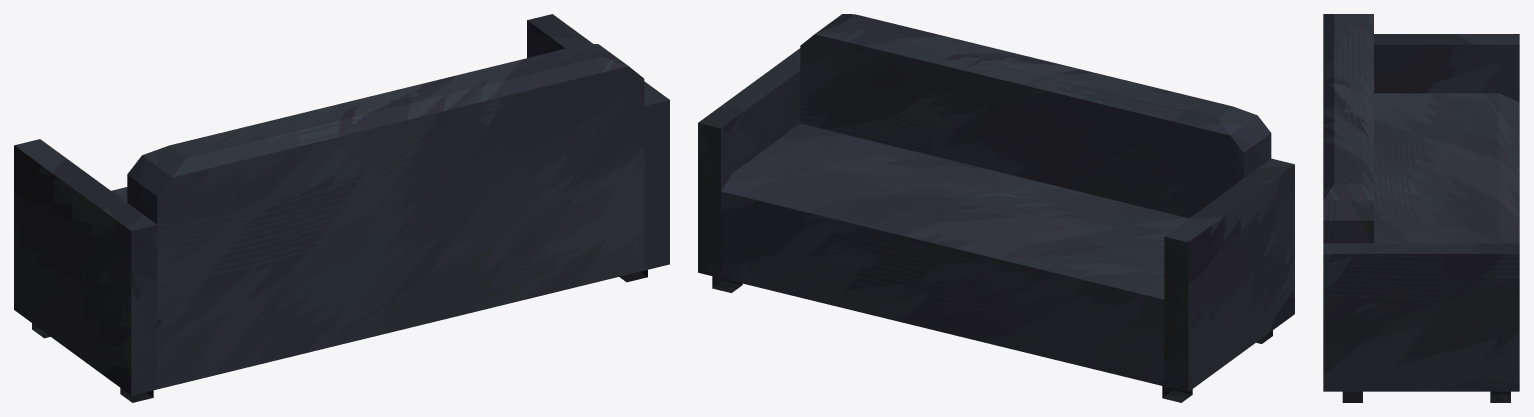
File: M-CouchFIN (1).fbx
The picture shows the model from 3 angles, left to right: view 1: azimuth 30°, elevation 25°; view 2: azimuth 150°, elevation 25°; view 3: azimuth 270°, elevation 25°; orthographic projection. The views are drawn at different scales.
Visible parts, largest first — view 1: Cube; view 2: Cube; view 3: Cube.
Boxes of the visible parts, <box> form: Cube: <box>14,14,669,402</box>; Cube: <box>698,14,1294,402</box>; Cube: <box>1323,14,1519,402</box>.
Size of the model in its own units: 212 by 80 by 89.
2 materials, 2 textured.
